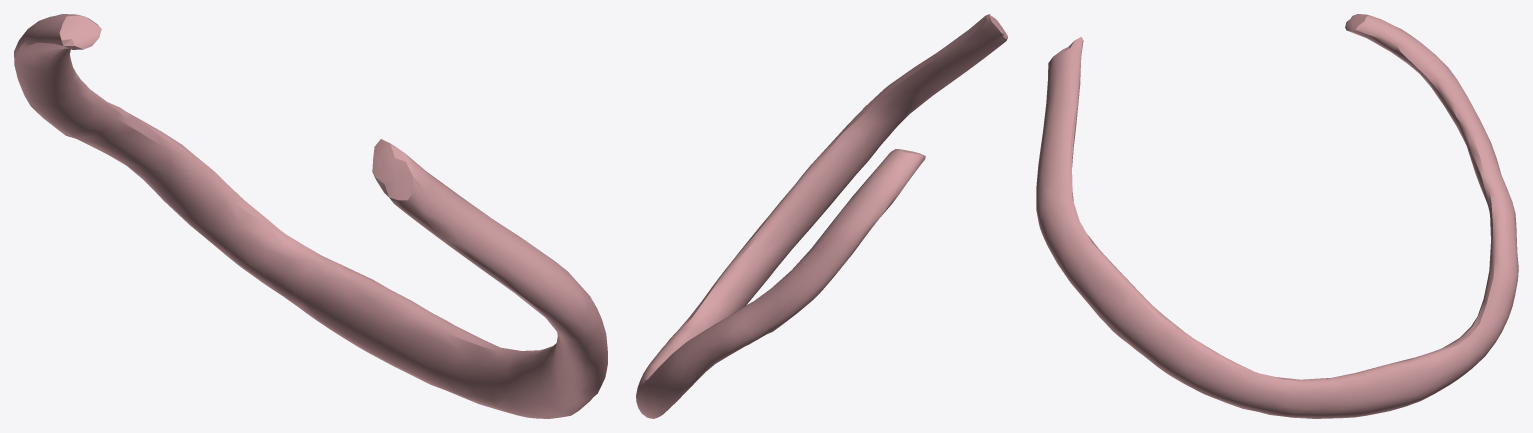
The model's file is fma56738_mm1023m.glb.
3 views of the same model, side by side, from view 1: azimuth 30°, elevation 25°; view 2: azimuth 150°, elevation 25°; view 3: azimuth 270°, elevation 25° (orthographic). The views are drawn at different scales.
Parts seen in each view (by area): view 1: FMA56738_MM1023M; view 2: FMA56738_MM1023M; view 3: FMA56738_MM1023M.
Boxes of the visible parts, x1,y1,x2,y2 form: FMA56738_MM1023M: (14,14,607,418); FMA56738_MM1023M: (636,14,1007,418); FMA56738_MM1023M: (1036,14,1518,418).
Size of the model in its own units: 0.00542 by 0.00582 by 0.00853.
